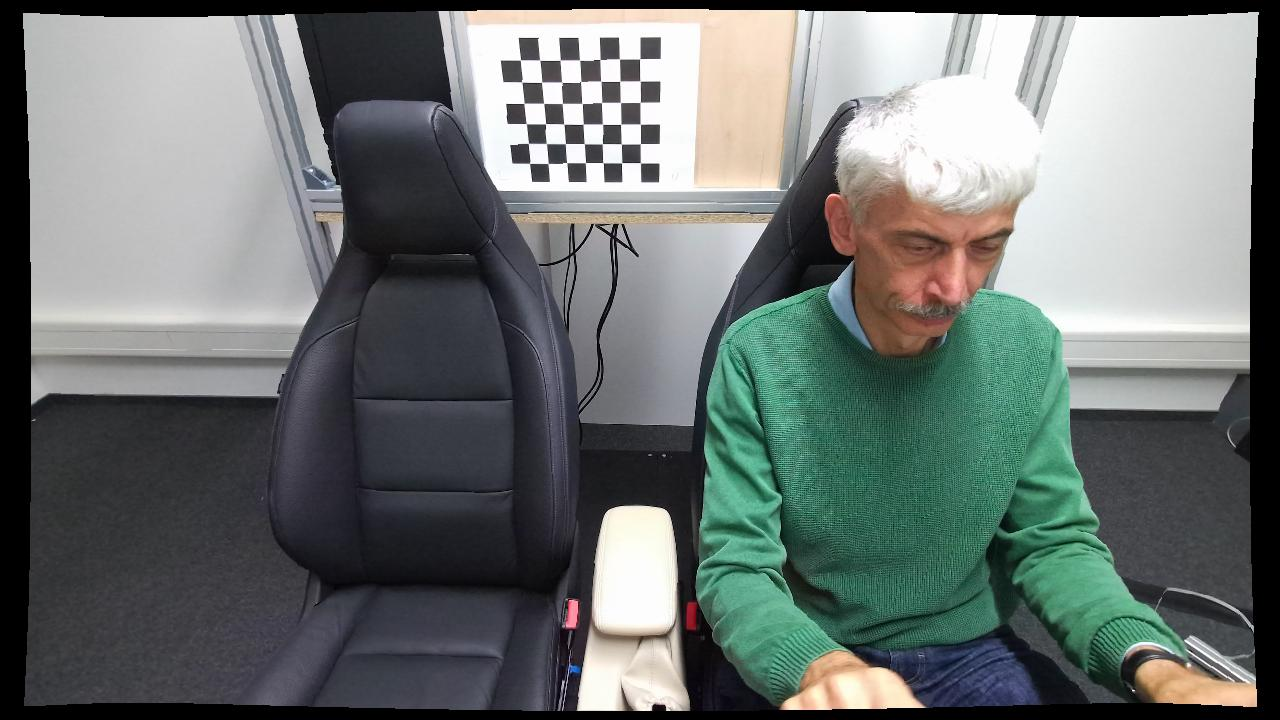SafeDriving: (661, 70, 1146, 718)
